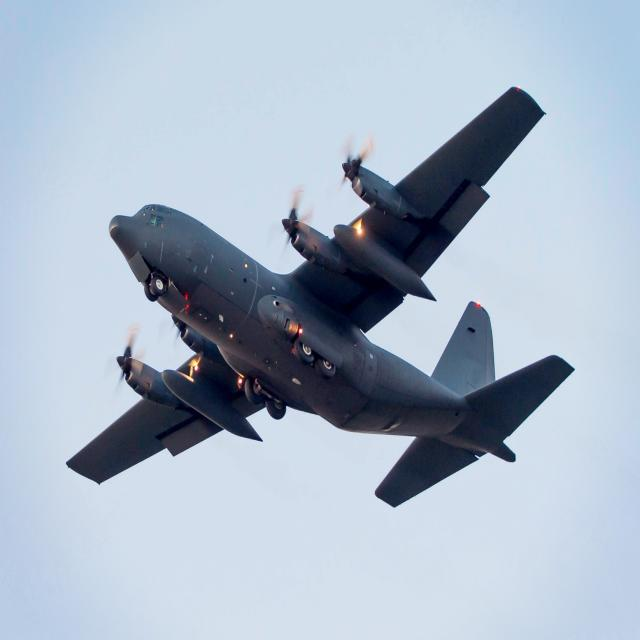C130: (49, 72, 624, 558)
